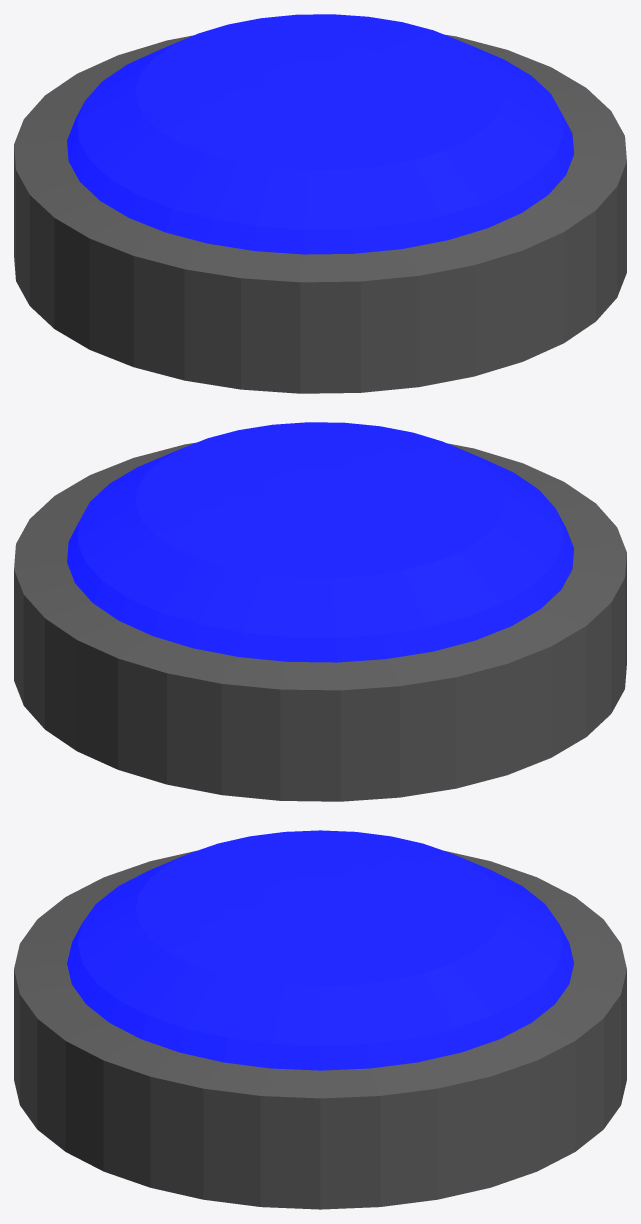
The model's file is ButtonBlue.fbx.
The picture shows the model from 3 angles, top to bottom: view 1: azimuth 30°, elevation 25°; view 2: azimuth 150°, elevation 25°; view 3: azimuth 270°, elevation 25°; orthographic projection.
Visible parts, largest first — view 1: ButtonBase, ButtonHead; view 2: ButtonBase, ButtonHead; view 3: ButtonBase, ButtonHead.
Part boxes in pixels (bbox=[...]): ButtonBase: bbox=[14, 34, 626, 393]; ButtonHead: bbox=[67, 14, 573, 254]; ButtonBase: bbox=[14, 442, 626, 801]; ButtonHead: bbox=[67, 422, 573, 662]; ButtonBase: bbox=[14, 850, 626, 1209]; ButtonHead: bbox=[67, 830, 573, 1070].
Size of the model in its own units: 200 by 64.78 by 200.
